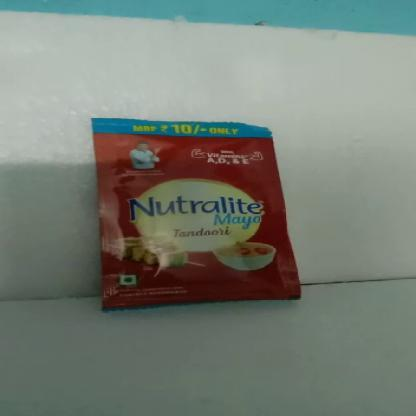Nutralite TANDOORI MAYO 30g: (96, 128, 264, 299)
